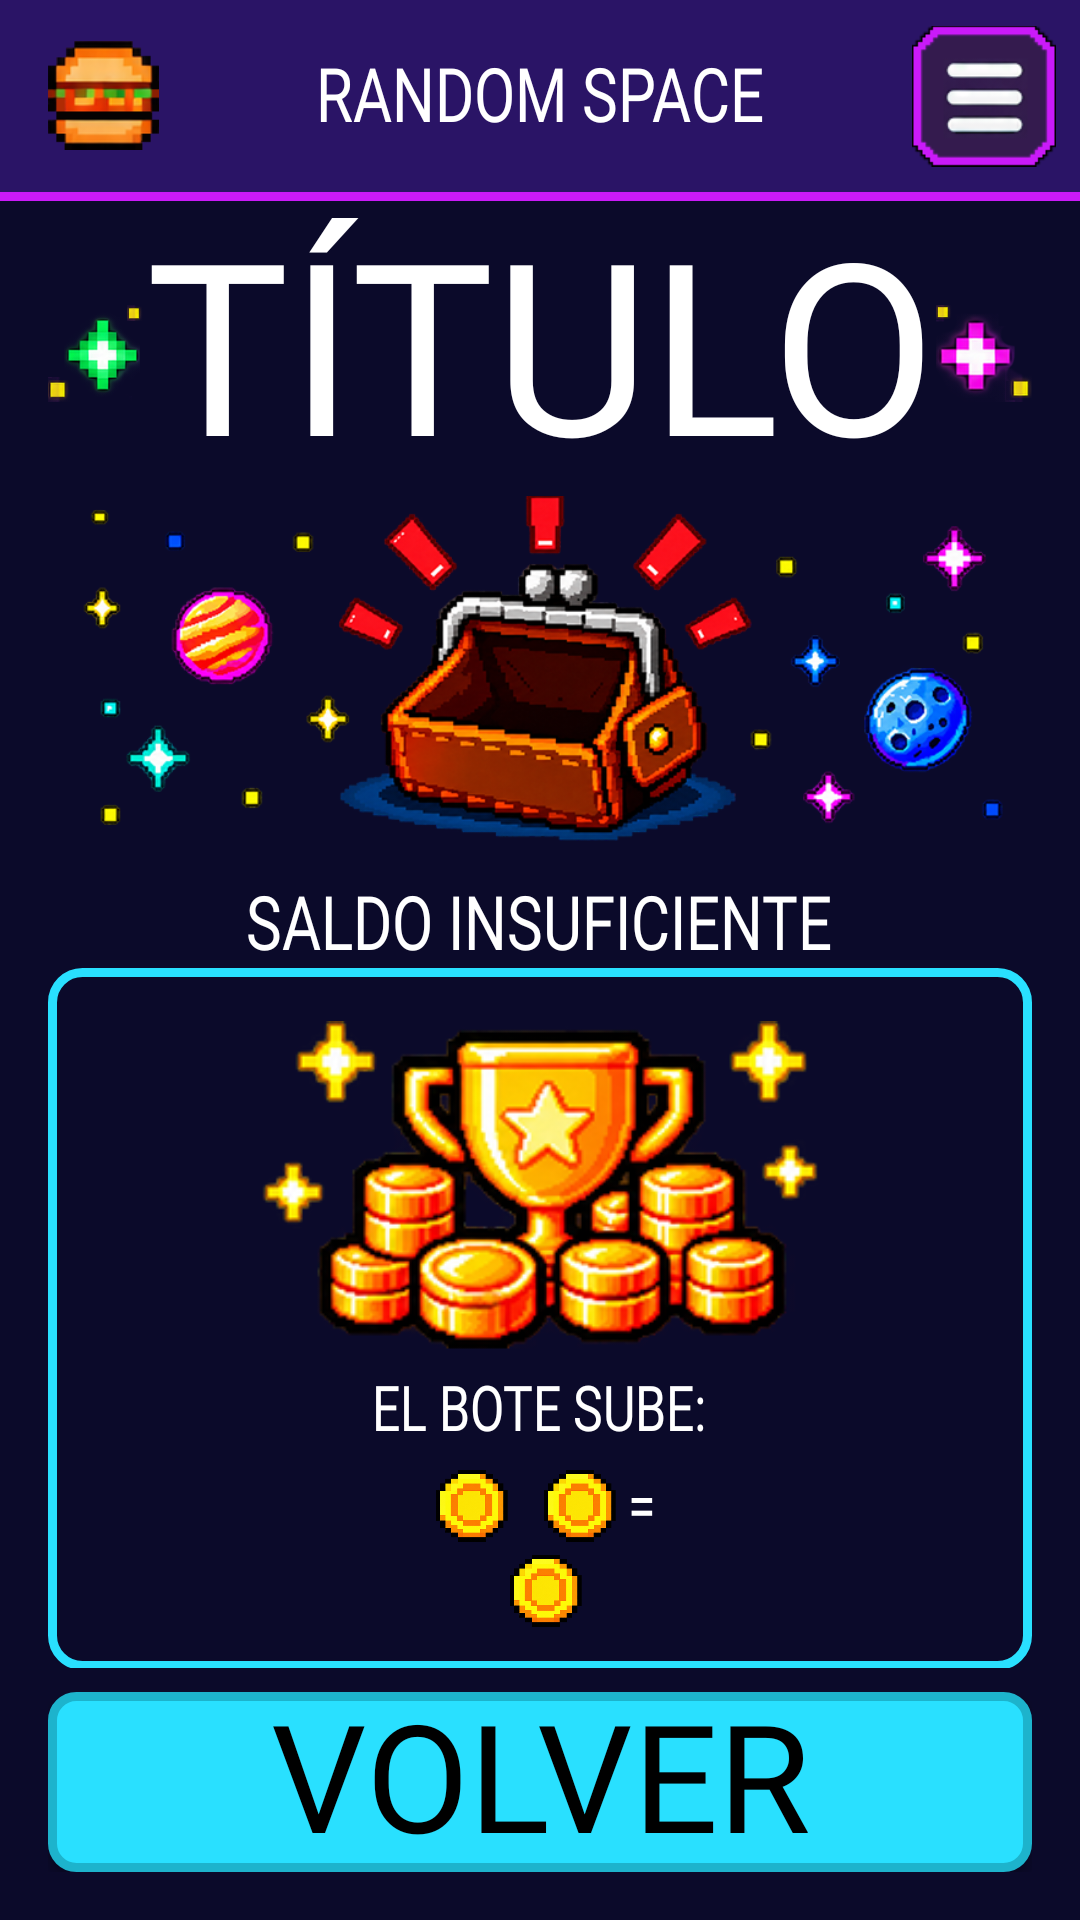

Point at icon controls on the screen. Image size 1080 x 1920, points as (x,y).
Abrir menú: (984,96)
burger: (103,95)
estrellas der: (983,351)
estrellas izq: (94,353)
